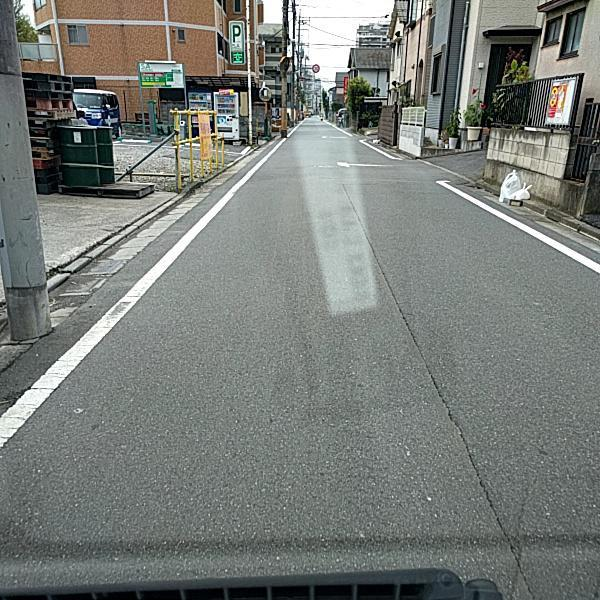D44: (1, 306, 130, 450)
